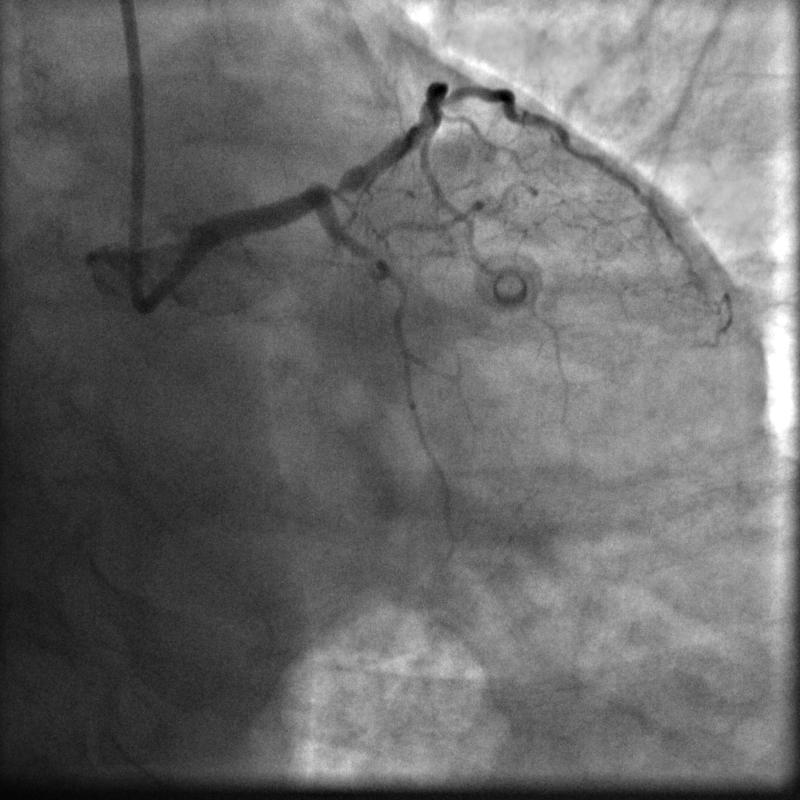Stenosis: (312, 171, 357, 205)
